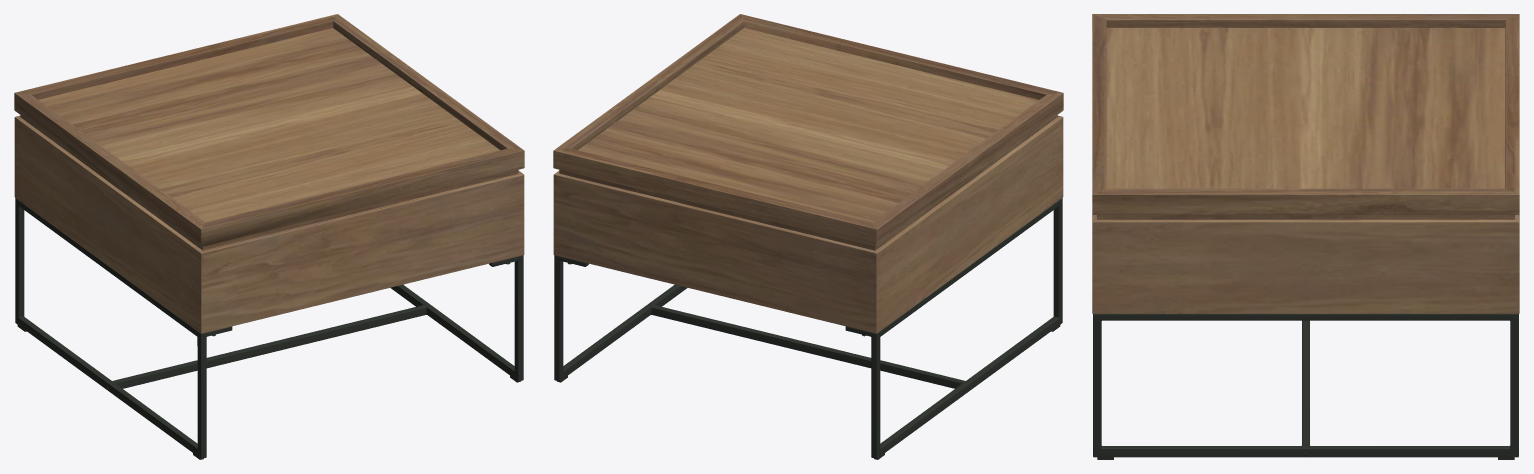
3 views of the same model, side by side, from view 1: azimuth 30°, elevation 25°; view 2: azimuth 150°, elevation 25°; view 3: azimuth 270°, elevation 25° (orthographic). The views are drawn at different scales.
Parts seen in each view (by area): view 1: RootNode; view 2: RootNode; view 3: RootNode.
Part boxes in pixels (bbox=[...]): RootNode: bbox=[14, 14, 524, 459]; RootNode: bbox=[553, 14, 1063, 459]; RootNode: bbox=[1092, 14, 1519, 459].
Size of the model in its own units: 0.6789 by 0.4641 by 0.6756.
1 material, 1 textured.
